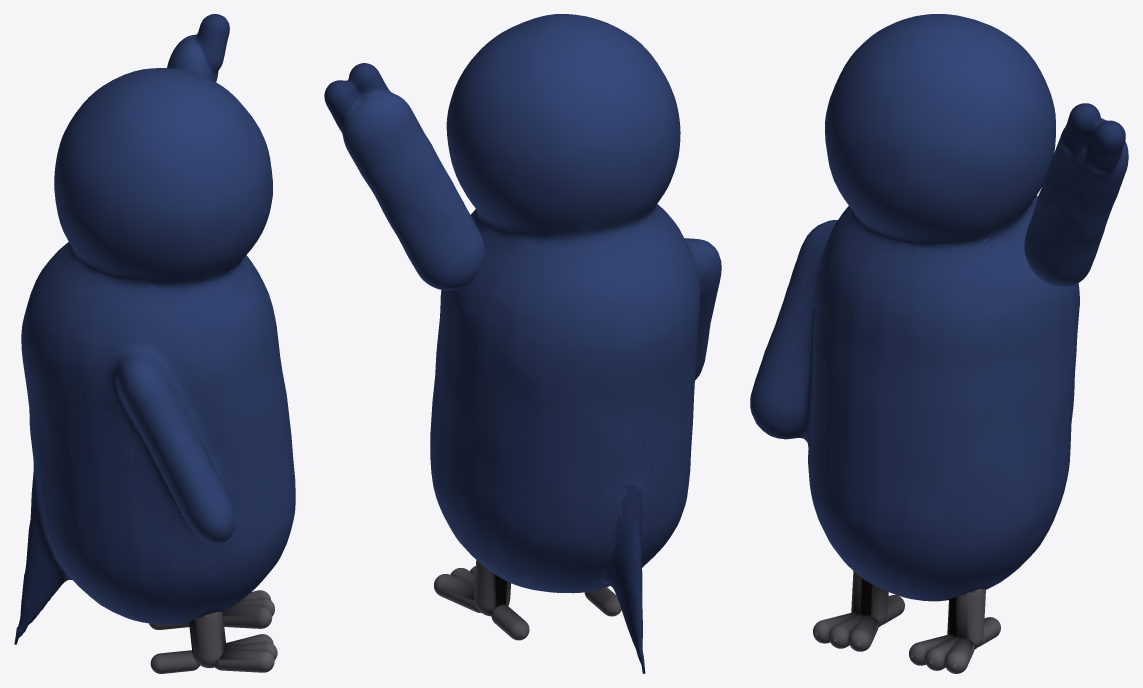
Rendered from jag-ar-sa-glad.glb.
3 renders of one model, left to right at view 1: azimuth 30°, elevation 25°; view 2: azimuth 150°, elevation 25°; view 3: azimuth 270°, elevation 25°, orthographic. The views are drawn at different scales.
Visible parts, largest first — view 1: picapau__r0, asaEspada__r0, picapau__r9, picapau__r10, picapau__r5, picapau__r3; view 2: picapau__r0, asaEspada__r0, picapau__r4, picapau__r7, picapau__r8, picapau__r3; view 3: picapau__r0, asaEspada__r0, picapau__r4, picapau__r9, picapau__r2, picapau__r7, picapau__r6, picapau__r1, picapau__r10, picapau__r5.
Part boxes in pixels (x1=…): picapau__r0: x1=14, y1=68, x2=295, y2=644; asaEspada__r0: x1=167, y1=14, x2=229, y2=82; picapau__r9: x1=189, y1=611, x2=226, y2=668; picapau__r10: x1=215, y1=648, x2=274, y2=672; picapau__r5: x1=222, y1=605, x2=272, y2=628; picapau__r3: x1=150, y1=650, x2=199, y2=673; picapau__r0: x1=430, y1=14, x2=721, y2=673; asaEspada__r0: x1=324, y1=63, x2=484, y2=290; picapau__r4: x1=474, y1=560, x2=510, y2=616; picapau__r7: x1=434, y1=574, x2=480, y2=612; picapau__r8: x1=491, y1=604, x2=529, y2=640; picapau__r3: x1=584, y1=587, x2=621, y2=616; picapau__r0: x1=750, y1=14, x2=1079, y2=601; asaEspada__r0: x1=1024, y1=103, x2=1128, y2=286; picapau__r4: x1=947, y1=588, x2=985, y2=649; picapau__r9: x1=851, y1=571, x2=888, y2=626; picapau__r2: x1=848, y1=615, x2=878, y2=651; picapau__r7: x1=944, y1=637, x2=974, y2=673; picapau__r6: x1=925, y1=636, x2=959, y2=670; picapau__r1: x1=829, y1=614, x2=863, y2=648; picapau__r10: x1=813, y1=612, x2=857, y2=643; picapau__r5: x1=909, y1=634, x2=953, y2=665.
Bounding box in the file's own units: 0.7917 × 1.64 × 0.9292.
